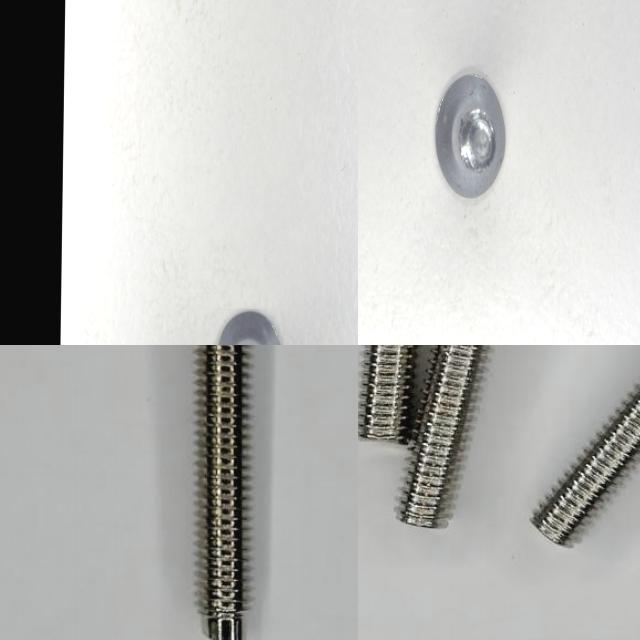Screw: (531, 386, 640, 545), (398, 345, 487, 528), (199, 345, 246, 640), (436, 74, 505, 197), (358, 345, 416, 443), (218, 311, 280, 345)
